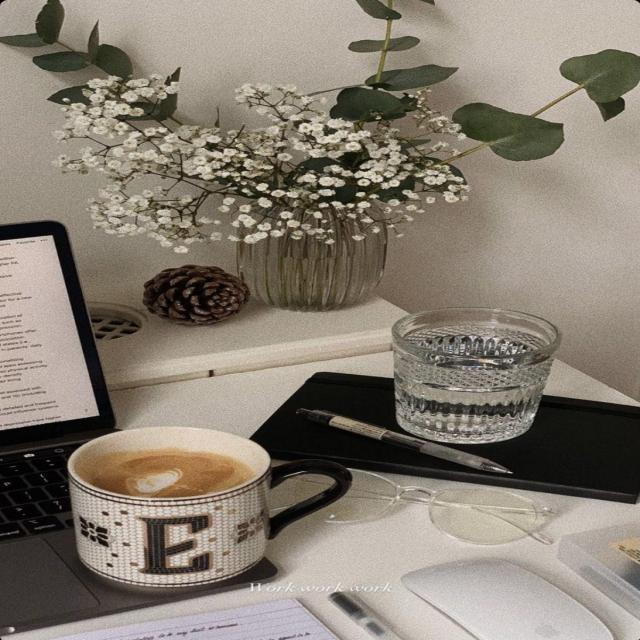cup-handle: (64, 426, 352, 598)
glass-normal: (388, 306, 564, 444)
